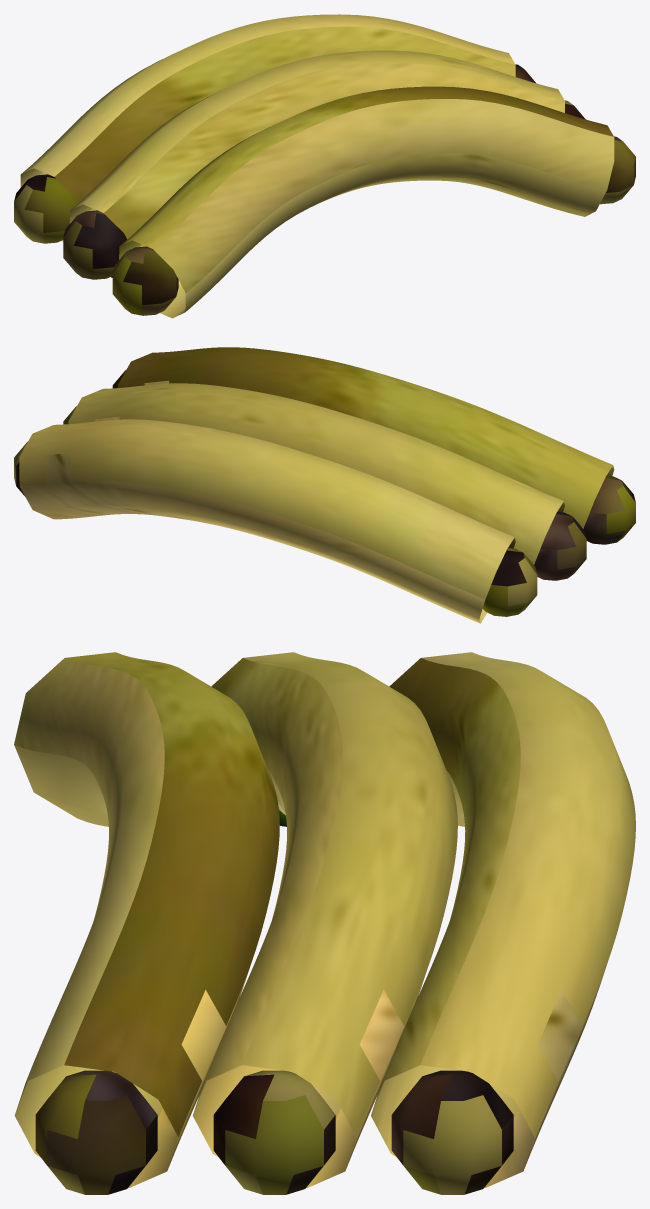
File: Food_pisang.fbx
3 renders of one model, top to bottom at view 1: azimuth 30°, elevation 25°; view 2: azimuth 150°, elevation 25°; view 3: azimuth 270°, elevation 25°, orthographic. The views are drawn at different scales.
Visible parts, largest first — view 1: Food_pisang; view 2: Food_pisang; view 3: Food_pisang.
Part boxes in pixels (x1,y1,x2,y2): Food_pisang: [14, 14, 635, 318]; Food_pisang: [14, 347, 635, 623]; Food_pisang: [14, 652, 635, 1194].
Bounding box in the file's own units: 0.1503 × 0.0396 × 0.0873.
